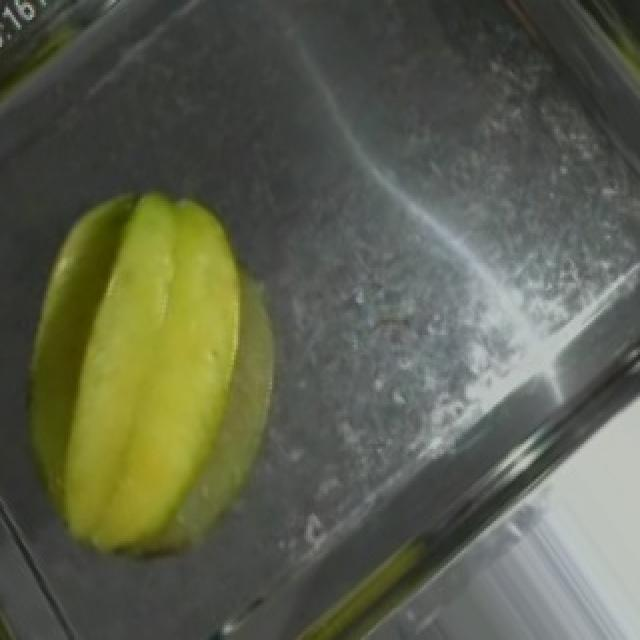fruit: (8, 146, 364, 558), (460, 496, 640, 640)
